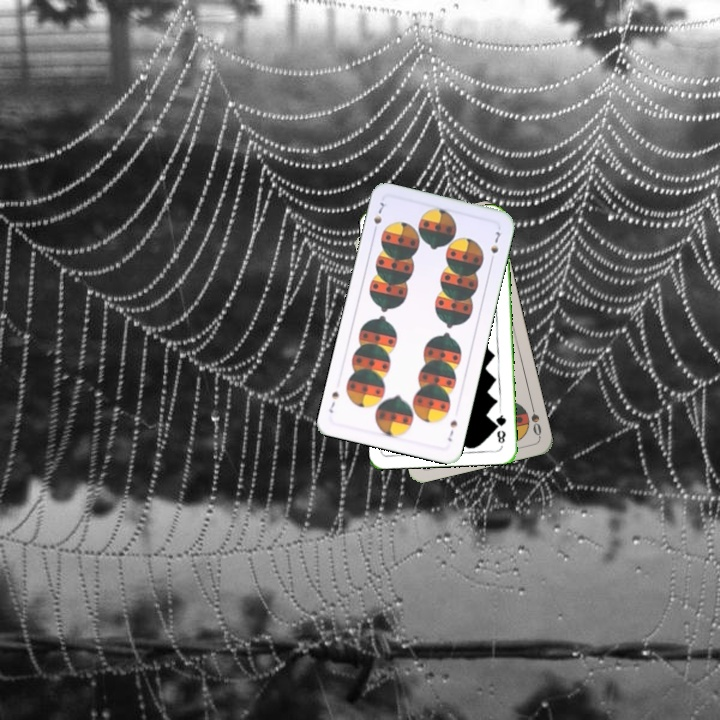G8: (492, 407, 508, 446)
S7: (369, 198, 387, 236), (444, 416, 460, 444)
SO: (526, 398, 544, 439)
